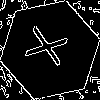X: (25, 25, 77, 71)
